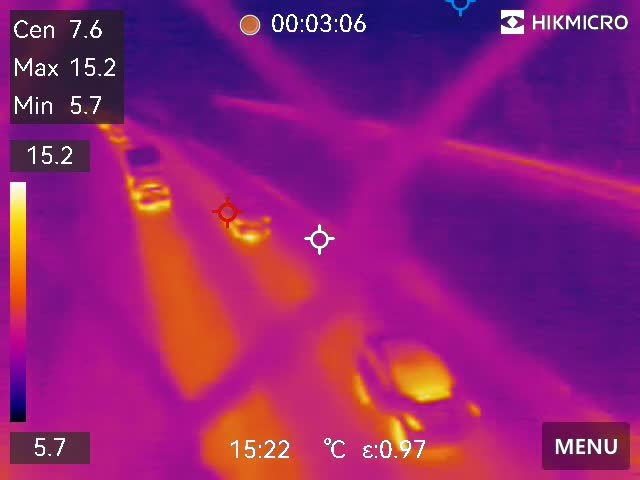vehicle: (338, 323, 486, 445)
